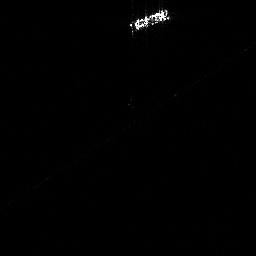ship: (129, 6, 172, 35)
